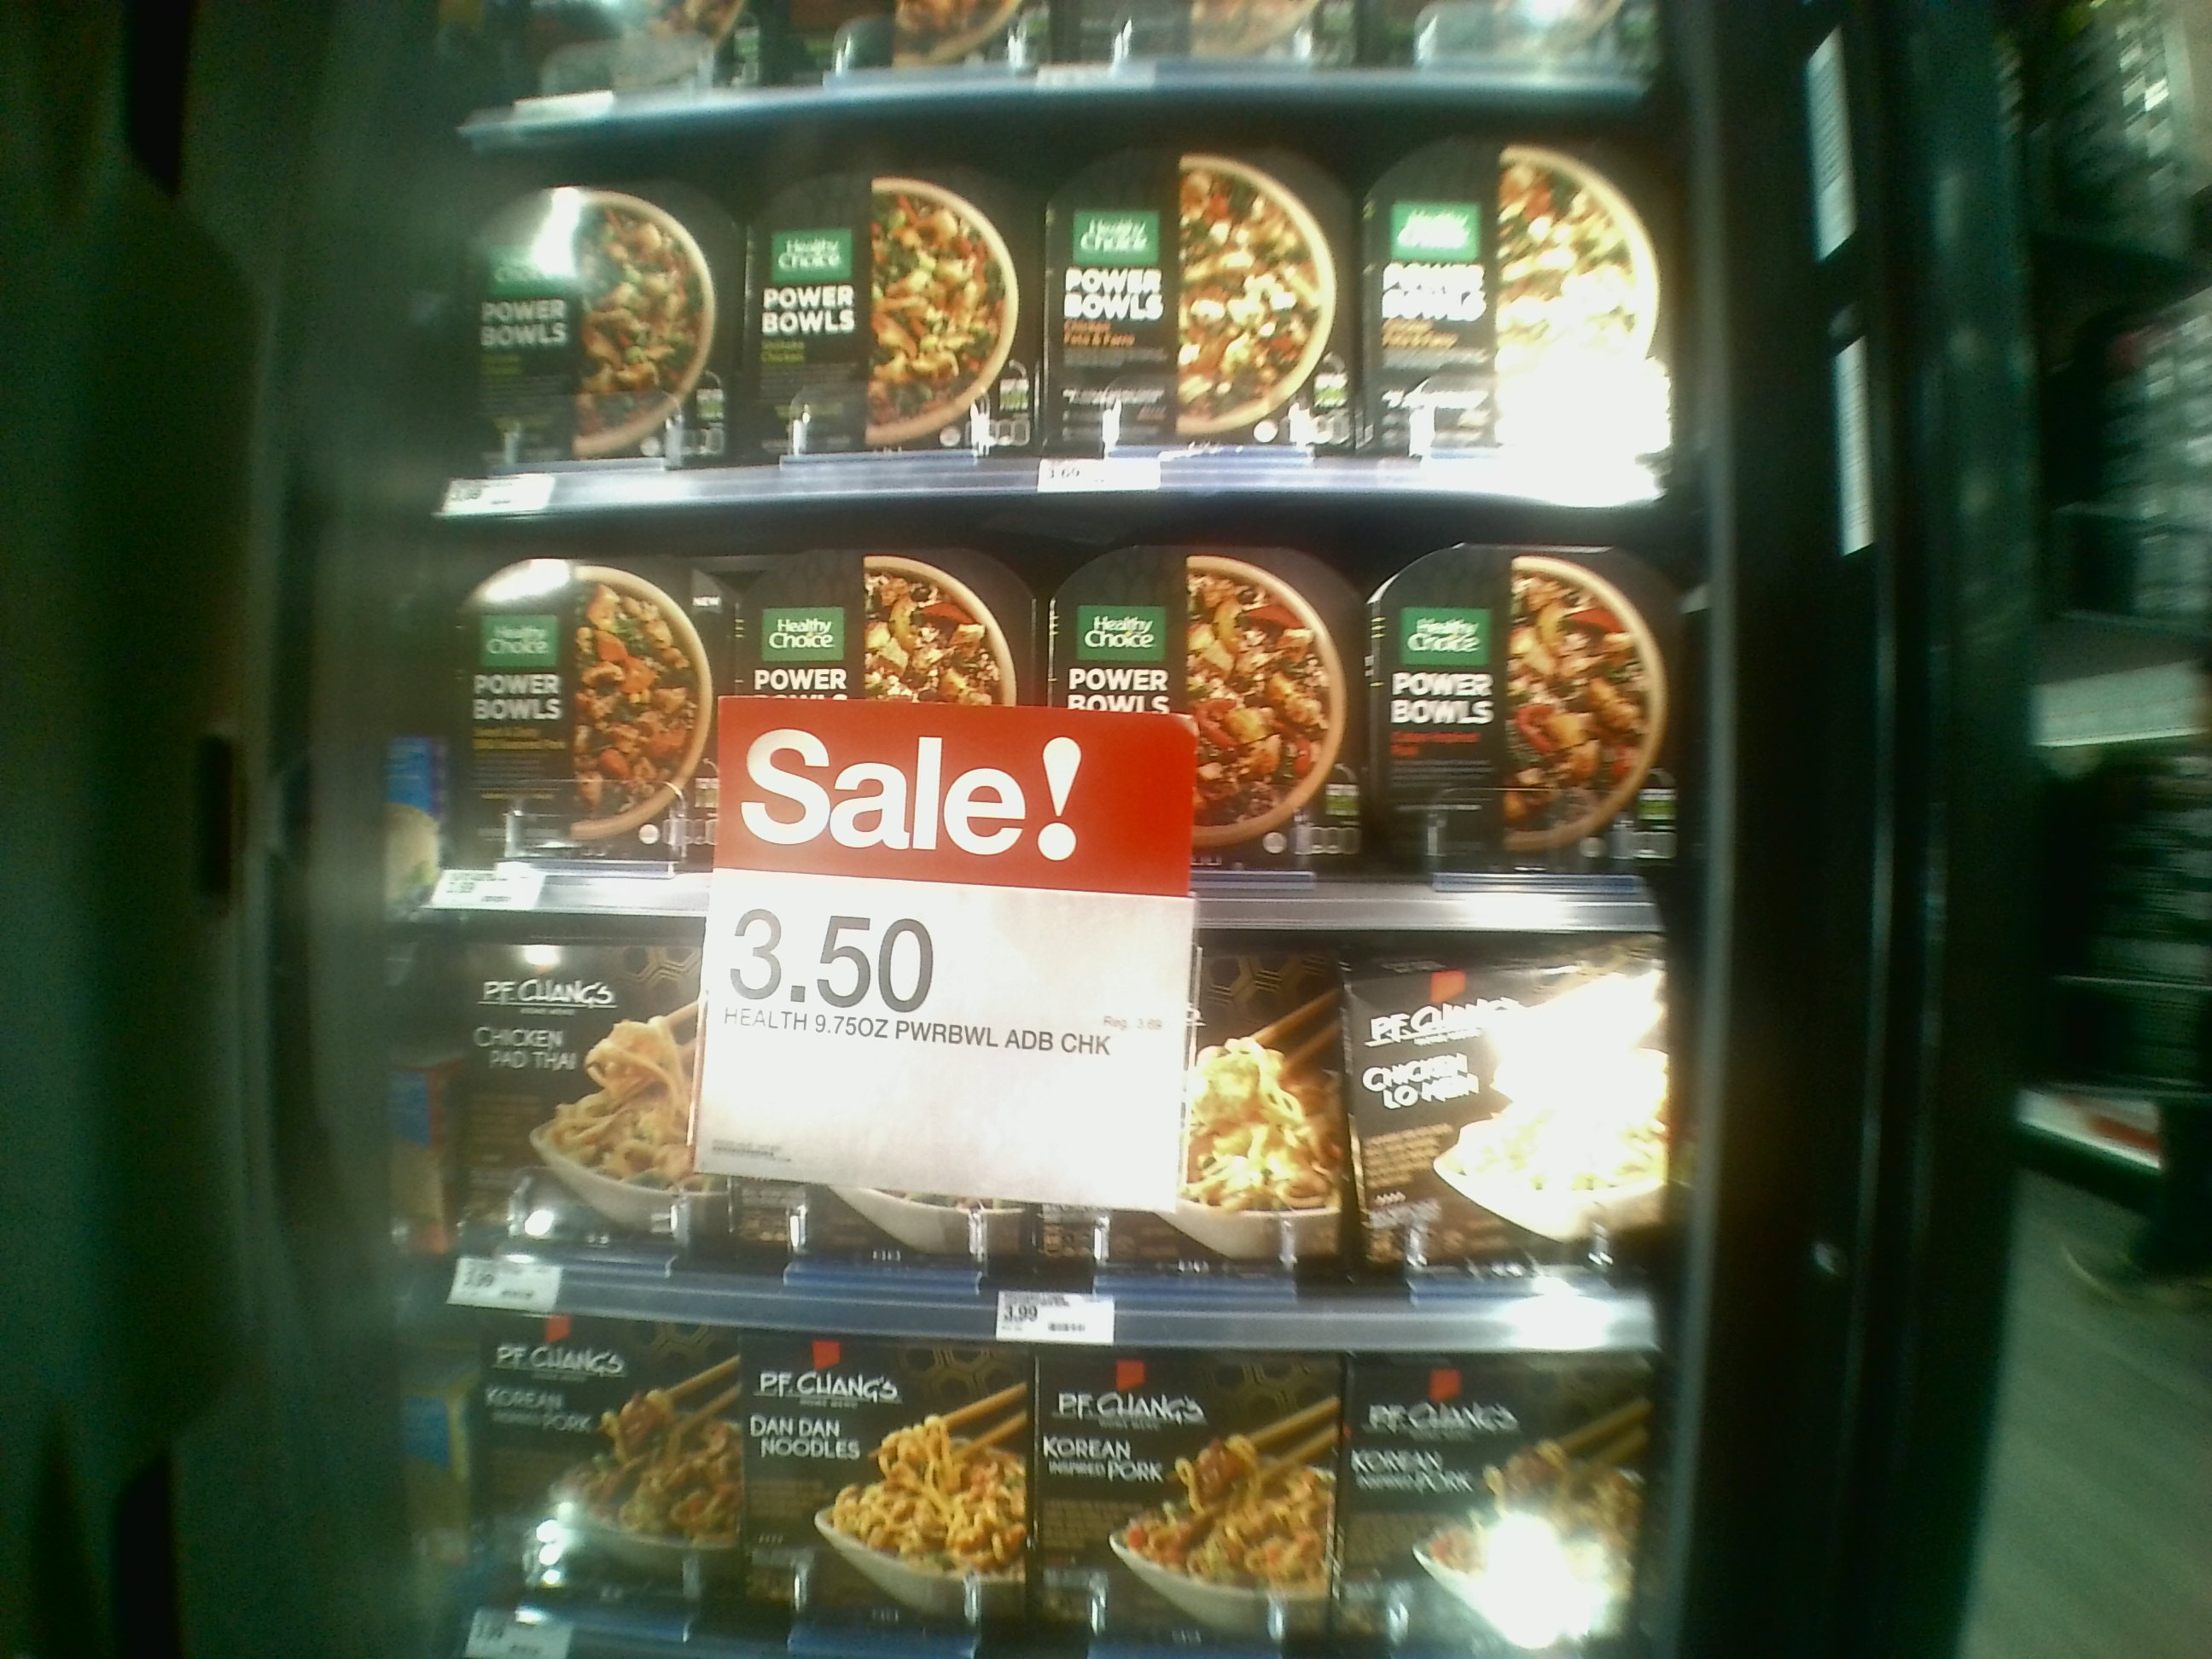shelf: (432, 486, 1667, 938)
